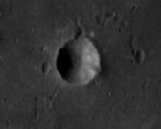crater: (24, 24, 125, 116)
